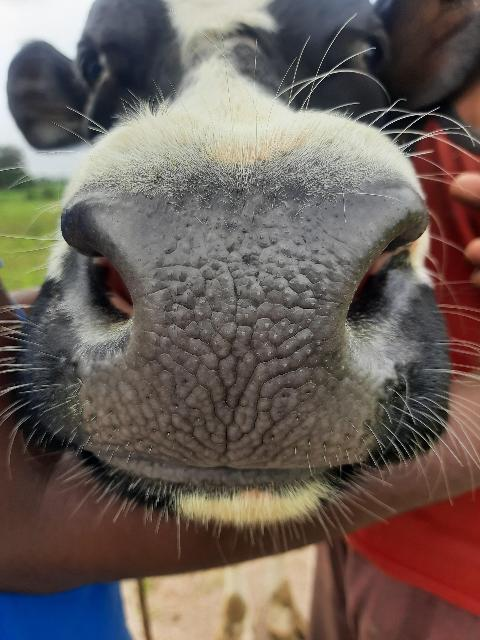Muzzle: (99, 206, 357, 464)
